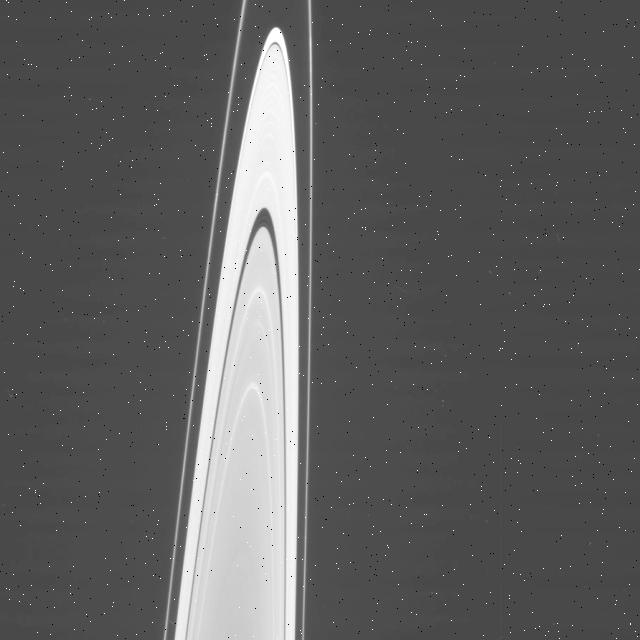Saturn: (159, 0, 315, 640)
